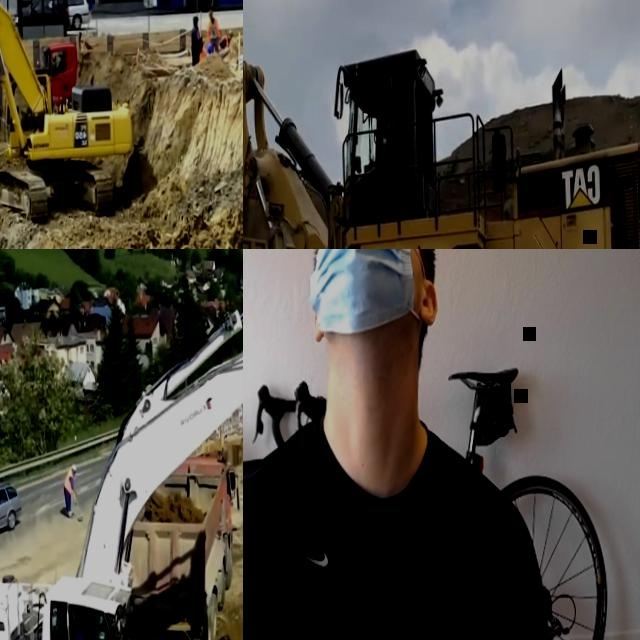Hardhat: (207, 11, 213, 18), (71, 464, 77, 471), (229, 31, 234, 37)
Mask: (310, 249, 430, 338)
NO-Hardhat: (192, 17, 198, 24)
NO-Safety Vest: (249, 424, 503, 640), (191, 30, 200, 55)
Person: (243, 249, 548, 640), (63, 463, 78, 518), (190, 17, 205, 66), (207, 9, 221, 54), (71, 621, 102, 640), (219, 32, 233, 51), (198, 39, 206, 61)
Safety Vest: (206, 20, 218, 42), (64, 469, 73, 494), (220, 36, 229, 51), (199, 49, 205, 60)
machinery: (0, 249, 243, 640), (243, 31, 640, 249), (0, 0, 135, 230), (126, 448, 241, 640), (37, 42, 79, 108)
vehicle: (13, 0, 70, 38), (0, 481, 22, 549), (48, 0, 92, 31)
